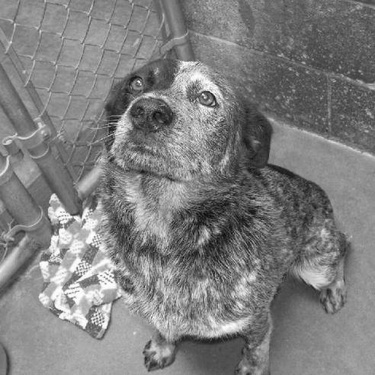dog: (73, 44, 358, 371)
